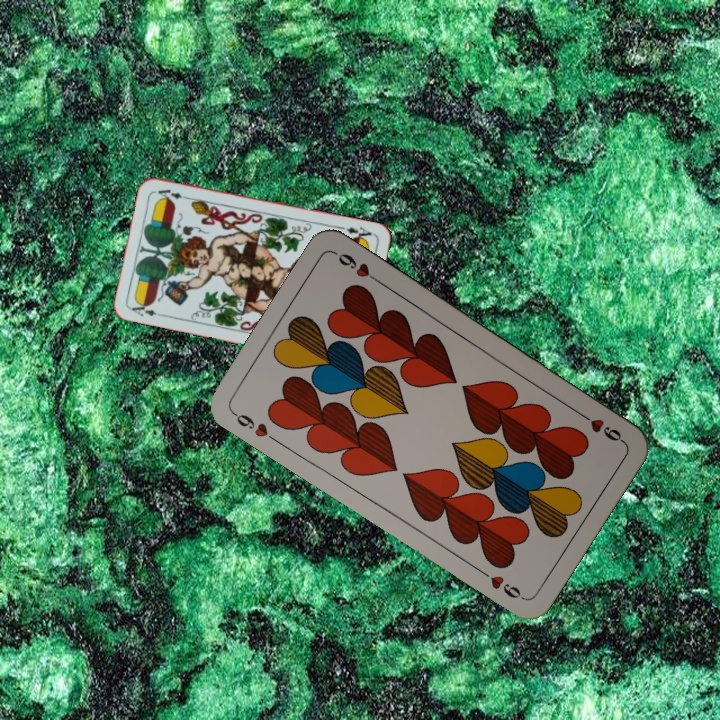EA: (342, 223, 377, 244), (128, 298, 158, 319)
H9: (574, 407, 626, 445), (228, 408, 271, 440)
